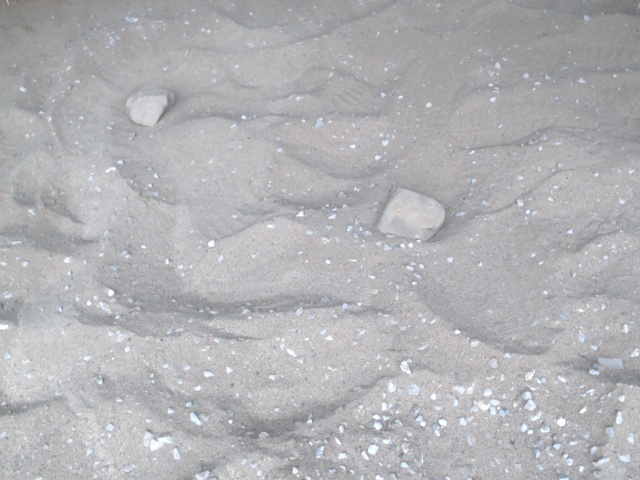rock: (368, 178, 454, 248), (117, 78, 182, 133)
